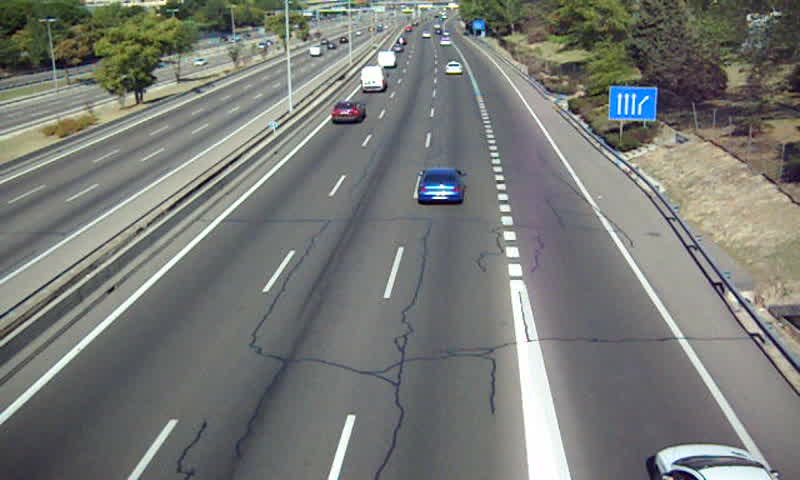car: (416, 166, 467, 204), (332, 100, 367, 124), (445, 62, 464, 76)
van: (360, 65, 391, 91), (378, 50, 396, 69)
